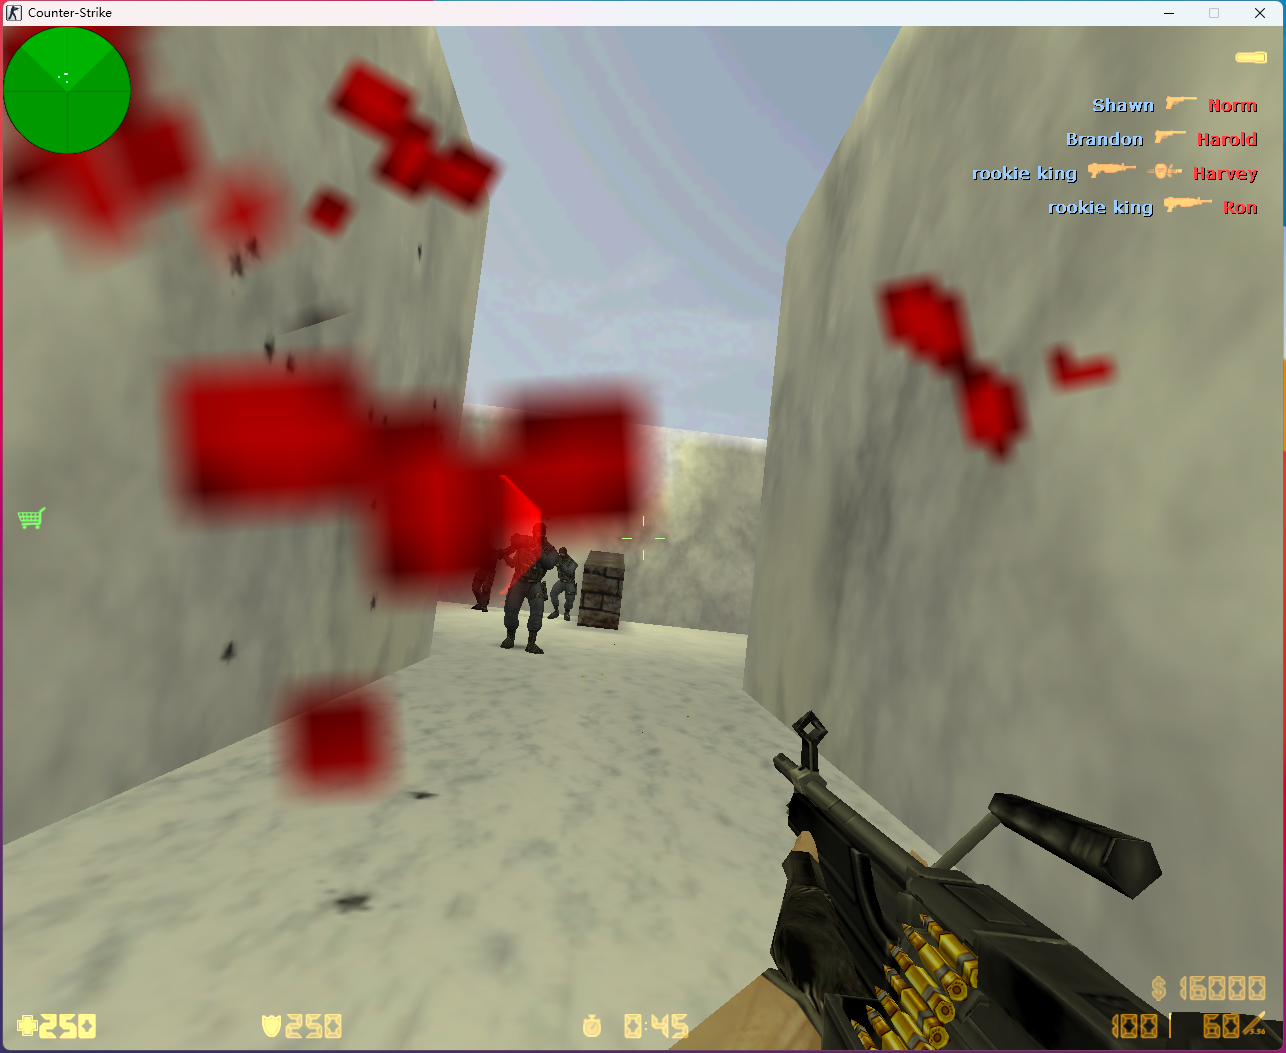C: (500, 518, 547, 656), (548, 540, 576, 620), (466, 537, 495, 611)
